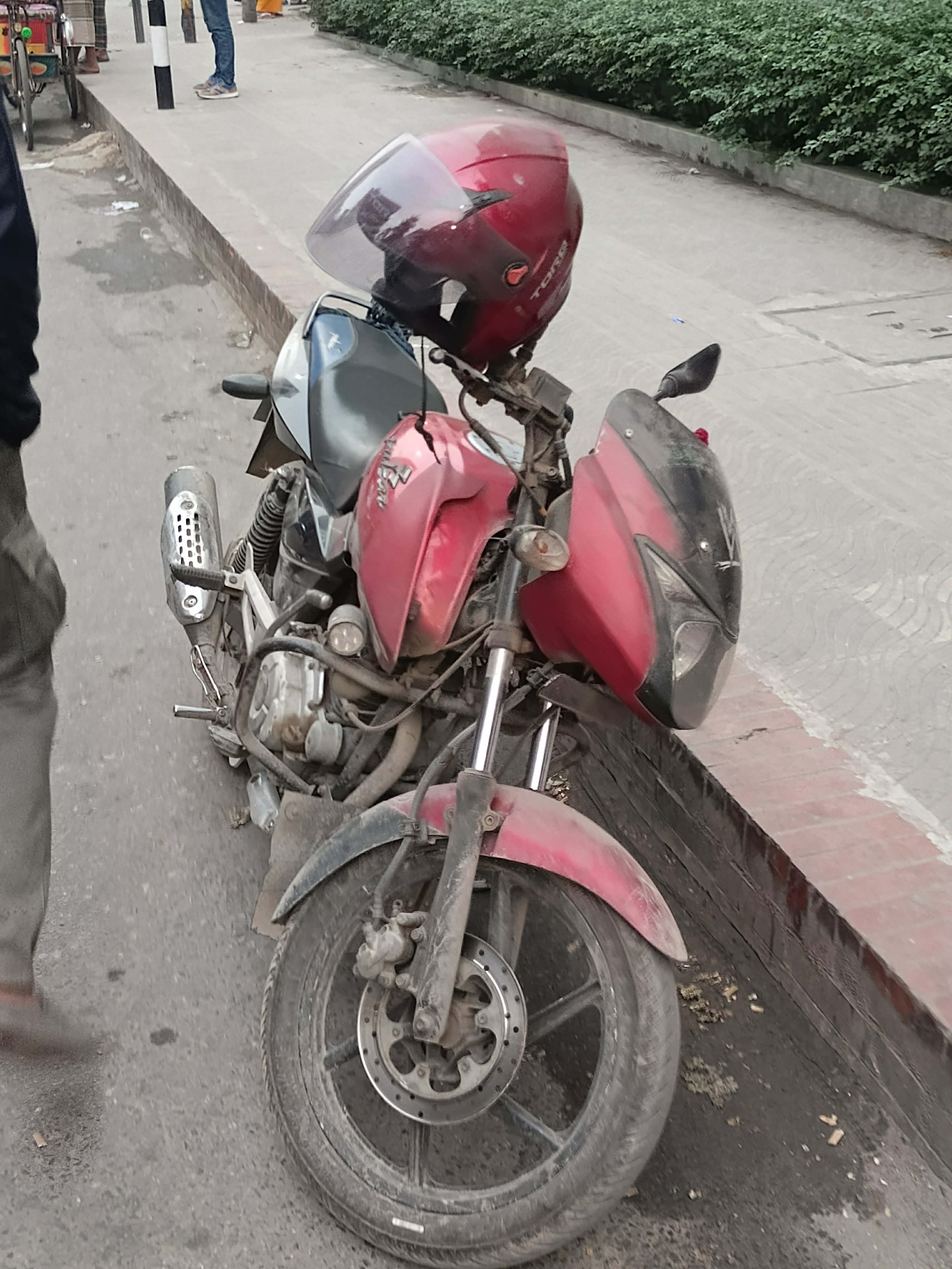Bikes: (125, 113, 737, 1269)
